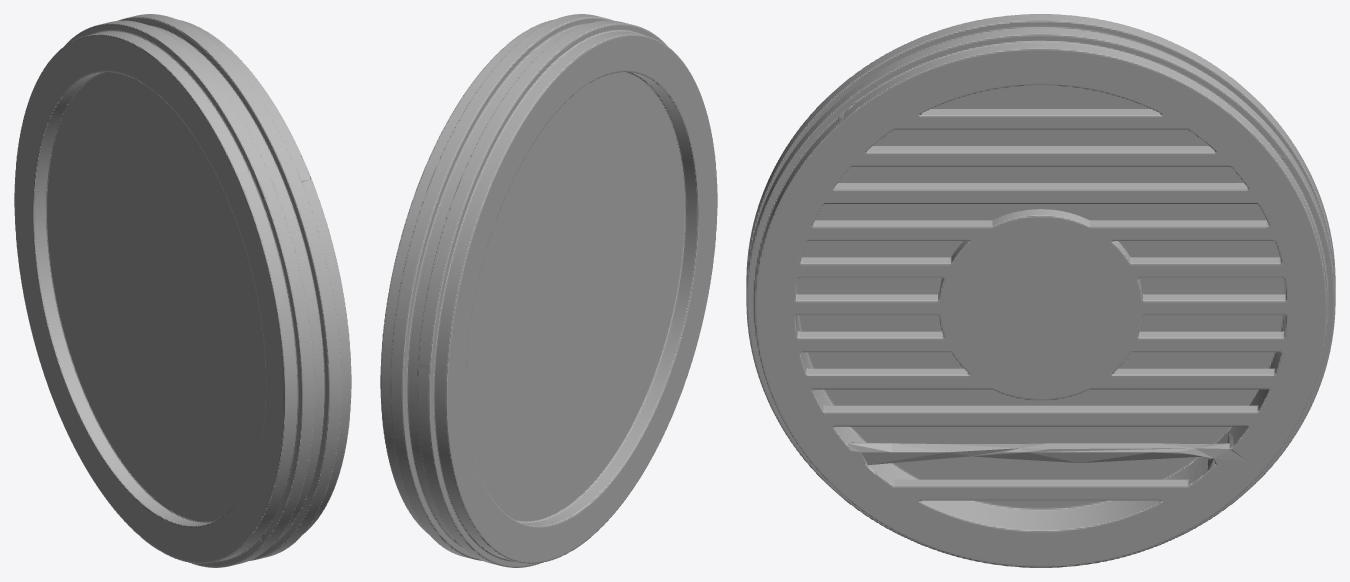
Rendered from PipeCover3.fbx.
3 views of the same model, side by side, from view 1: azimuth 30°, elevation 25°; view 2: azimuth 150°, elevation 25°; view 3: azimuth 270°, elevation 25° (orthographic). The views are drawn at different scales.
Visible parts, largest first — view 1: PipeCover3; view 2: PipeCover3; view 3: PipeCover3.
Part boxes in pixels (<box>): PipeCover3: <box>14,14,351,567</box>; PipeCover3: <box>380,14,717,567</box>; PipeCover3: <box>746,14,1335,567</box>.
Size of the model in its own units: 28.45 by 205 by 205.
